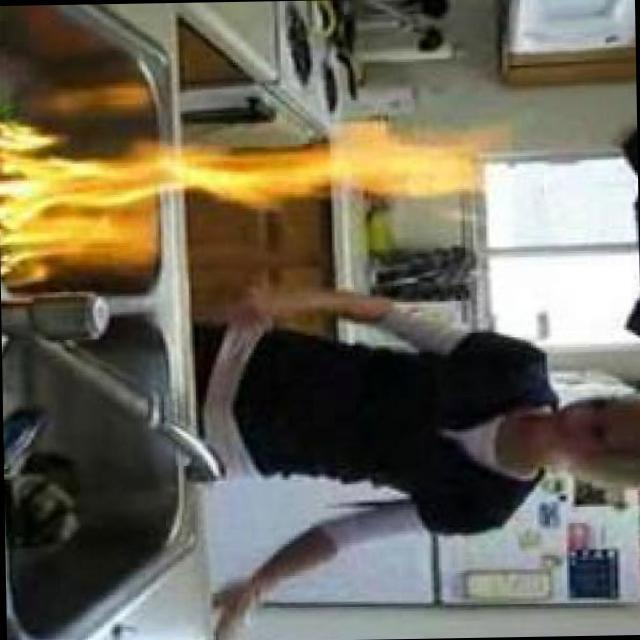Fire: (1, 119, 481, 281)
